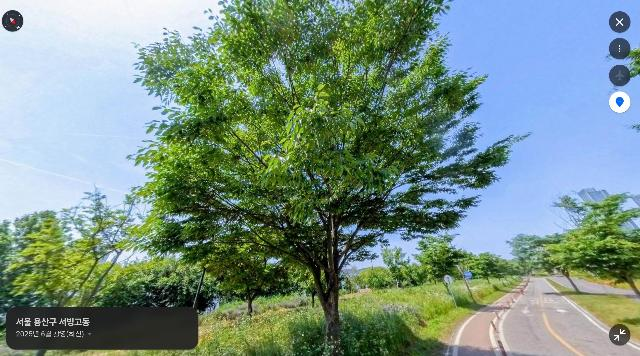other: (118, 0, 532, 356), (54, 185, 143, 306), (542, 190, 640, 296), (188, 243, 302, 316), (1, 209, 72, 309), (413, 239, 470, 300), (503, 233, 557, 280), (382, 244, 413, 291), (469, 252, 502, 286), (348, 265, 383, 292), (513, 257, 525, 278)
